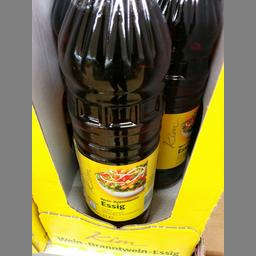vinegar: (50, 0, 164, 225)
